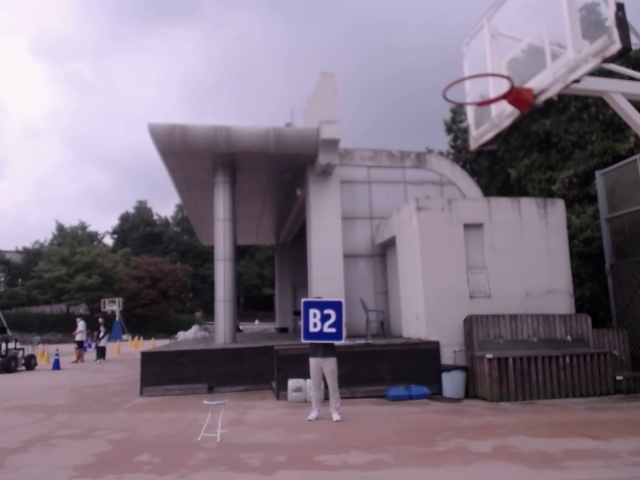delivery_b2: (301, 300, 346, 342)
